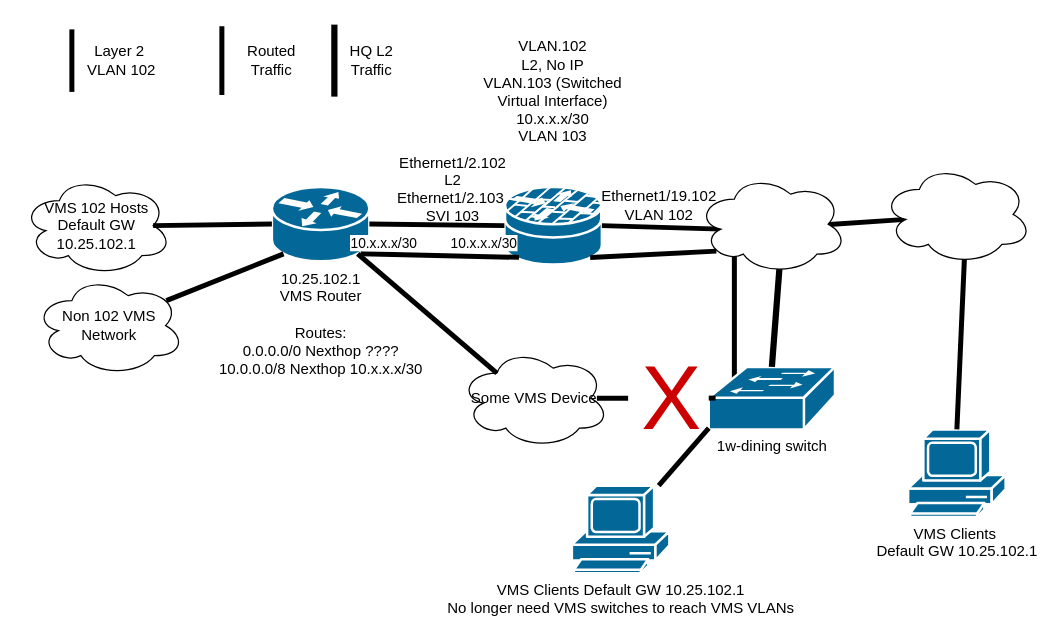
This 1059x640 diagram has some shape labels left out. Each missing label, with the centre of its shape:
"Archive MAG" goes at (956,213).
"HQ Firewall Router" goes at (552,225).
"HQ Network" goes at (771,223).
